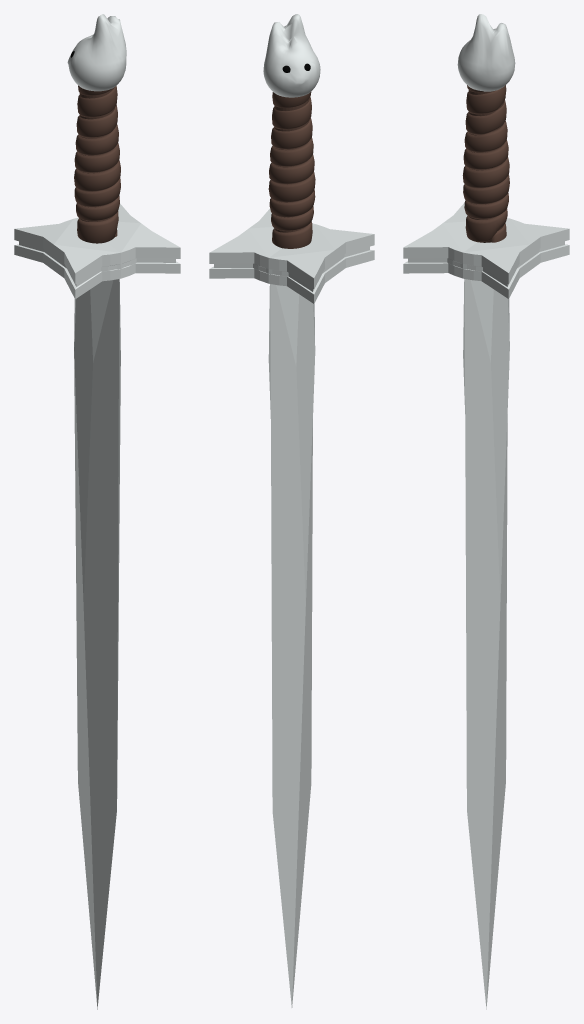
The model's file is sword.glb.
3 renders of one model, left to right at view 1: azimuth 30°, elevation 25°; view 2: azimuth 150°, elevation 25°; view 3: azimuth 330°, elevation 25°, orthographic.
Parts seen in each view (by area): view 1: sword, aufstz, wrapping.001, bunn; view 2: sword, aufstz, wrapping.001, bunn; view 3: sword, aufstz, wrapping.001, bunn.
Boxes of the visible parts, left/top/right/bottom form: sword: left=74, top=279, right=120, bottom=1009; aufstz: left=14, top=203, right=180, bottom=299; wrapping.001: left=74, top=85, right=120, bottom=243; bunn: left=67, top=14, right=126, bottom=91; sword: left=268, top=284, right=315, bottom=1007; aufstz: left=209, top=209, right=374, bottom=303; wrapping.001: left=268, top=92, right=315, bottom=248; bunn: left=263, top=14, right=320, bottom=97; sword: left=463, top=279, right=509, bottom=1009; aufstz: left=403, top=203, right=569, bottom=298; wrapping.001: left=462, top=85, right=509, bottom=242; bunn: left=457, top=14, right=515, bottom=91.
Size of the model in its own units: 0.3034 by 2.75 by 0.3034.
